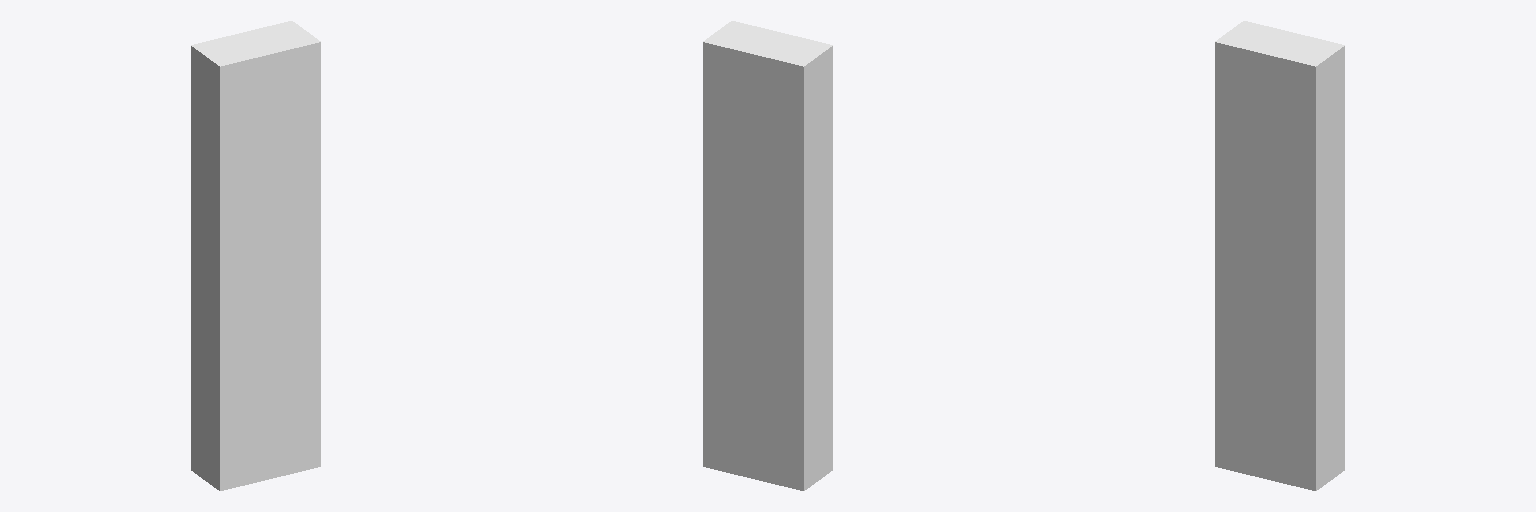
URDF robot description (cube):
<?xml version="1.0" ?>
<robot name="cube">
  <link name="baseLink">
    <contact>
      <lateral_friction value="1.0"/>
      <rolling_friction value="0.0"/>
      <contact_cfm value="0.0"/>
      <contact_erp value="1.0"/>
    </contact>
    <inertial>
      <origin rpy="0 0 0" xyz="0 0 0"/>
       <mass value="1.0"/>
       <inertia ixx="1" ixy="0" ixz="0" iyy="1" iyz="0" izz="1"/>
    </inertial>
    <visual>
      <origin rpy="0 0 0" xyz="0 0 0"/>
      <geometry>
				<box size="0.4 0.2 1.6"/>
      </geometry>
       <material name="white">
        <color rgba="1 1 1 1"/>
      </material>
    </visual>
    <collision>
      <origin rpy="0 0 0" xyz="0 0 0"/>
      <geometry>
	 	<box size="0.4 0.2 1.6"/>
      </geometry>
    </collision>
  </link>
</robot>

--- Facts derived from the render (not from the file) ---
Views: 3 orthographic renders of the robot side by side, from view 1: azimuth 30°, elevation 25°; view 2: azimuth 150°, elevation 25°; view 3: azimuth 330°, elevation 25°.
Model cube with 1 links and 0 joints (none), rooted at baseLink, posed every joint at zero.
Links seen in each view (by area): view 1: baseLink; view 2: baseLink; view 3: baseLink.
Boxes of the visible links, x1,y1,x2,y2 form: baseLink: (191,21,320,490); baseLink: (703,21,832,490); baseLink: (1215,21,1344,490).
Bounding box of the posed robot: 0.4 × 0.2 × 1.6 m (x, y, z).
Geometry: primitives only (box / cylinder / sphere), no mesh files.